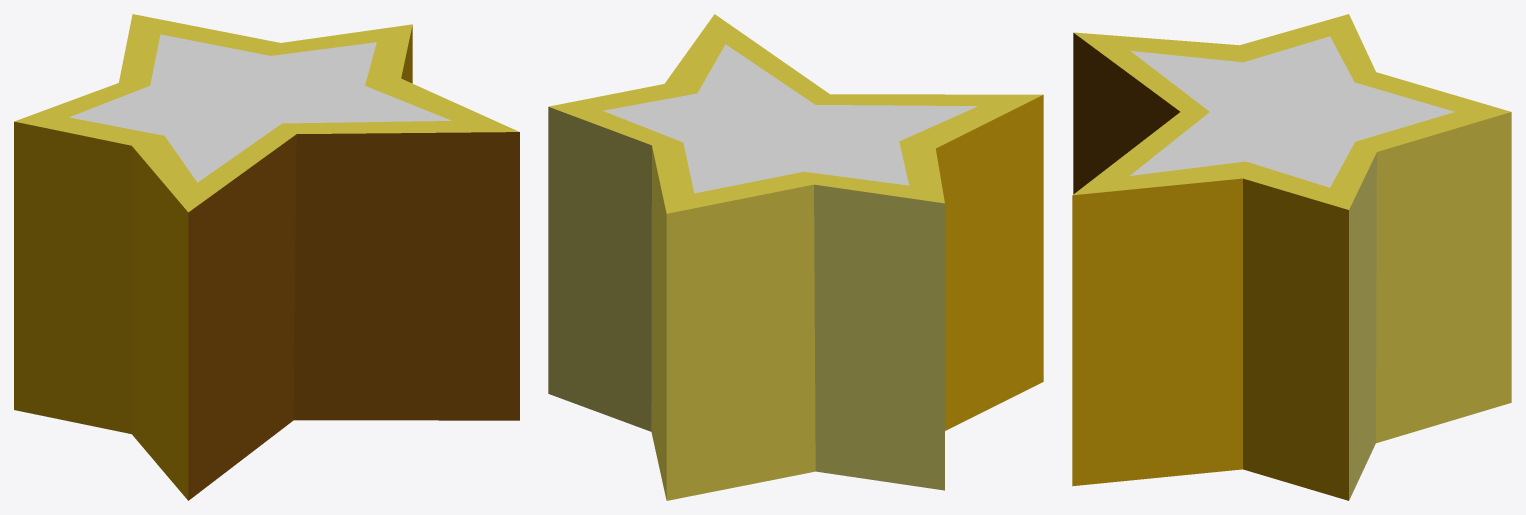
Rendered from HolidayStarProgressbarSnowflake.fbx.
The picture shows the model from 3 angles, left to right: view 1: azimuth 30°, elevation 25°; view 2: azimuth 150°, elevation 25°; view 3: azimuth 270°, elevation 25°; orthographic projection.
Parts seen in each view (by area): view 1: HolidayStarProgressbarSnowflake; view 2: HolidayStarProgressbarSnowflake; view 3: HolidayStarProgressbarSnowflake.
Boxes of the visible parts, x1=… form: HolidayStarProgressbarSnowflake: x1=14, y1=14, x2=519, y2=500; HolidayStarProgressbarSnowflake: x1=548, y1=14, x2=1043, y2=500; HolidayStarProgressbarSnowflake: x1=1072, y1=14, x2=1511, y2=500.
Bounding box in the file's own units: 88.7 × 61.35 × 83.94.
